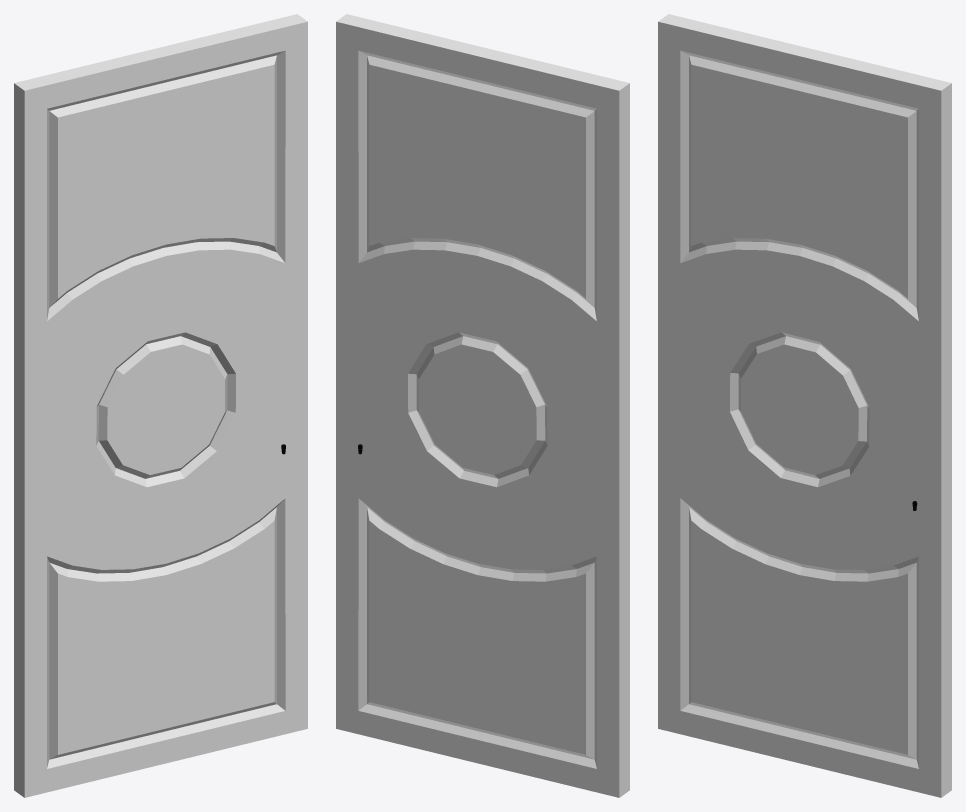
Rendered from Door12.fbx.
3 renders of one model, left to right at view 1: azimuth 30°, elevation 25°; view 2: azimuth 150°, elevation 25°; view 3: azimuth 330°, elevation 25°, orthographic.
Visible parts, largest first — view 1: Door12; view 2: Door12; view 3: Door12.
Boxes of the visible parts, x1,y1,x2,y2 form: Door12: (14, 14, 307, 797); Door12: (336, 14, 629, 797); Door12: (658, 14, 951, 797).
Bounding box in the file's own units: 78 × 186 × 6.71.
